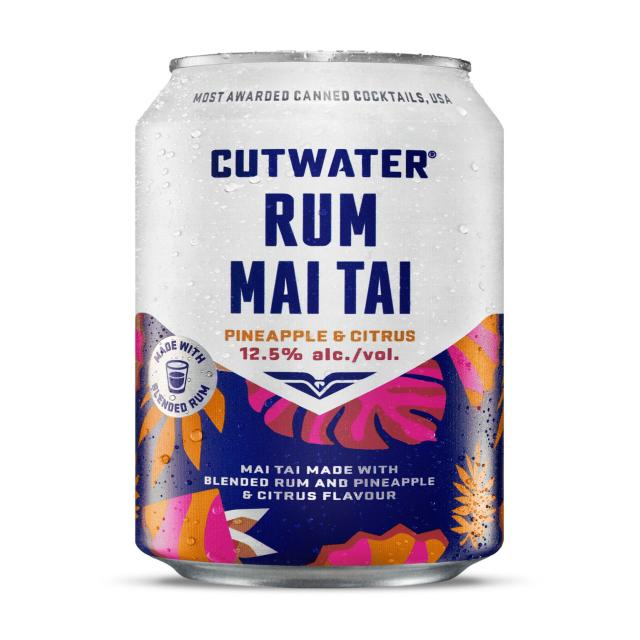Cans: (126, 44, 517, 590)
